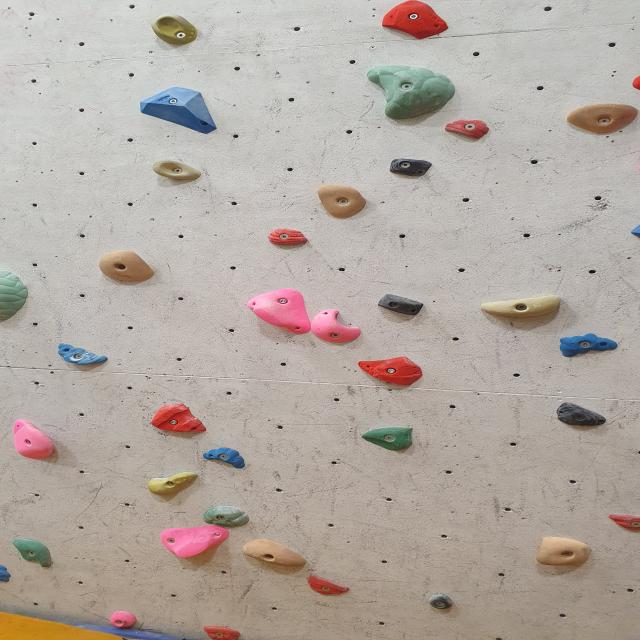Crimp: (379, 0, 453, 42), (148, 399, 206, 441), (358, 355, 424, 390), (13, 537, 57, 570), (556, 335, 620, 357), (555, 403, 609, 428), (200, 506, 252, 528), (56, 346, 109, 366), (265, 225, 310, 248), (442, 121, 491, 140), (606, 511, 640, 536), (308, 576, 348, 596), (202, 449, 246, 467), (201, 625, 244, 640), (0, 564, 13, 582)
Jug: (564, 104, 639, 135), (96, 252, 154, 286), (316, 185, 369, 221), (13, 420, 58, 461), (535, 536, 595, 566), (152, 15, 200, 48), (152, 157, 205, 183)
Pinch: (473, 293, 568, 321), (361, 426, 416, 452), (146, 471, 200, 497), (377, 293, 423, 317), (386, 158, 435, 176), (423, 592, 459, 610)
Sloper: (361, 61, 461, 123), (138, 84, 223, 138), (245, 290, 312, 338), (158, 524, 231, 558), (310, 308, 364, 344), (0, 268, 27, 320), (108, 612, 138, 630)
